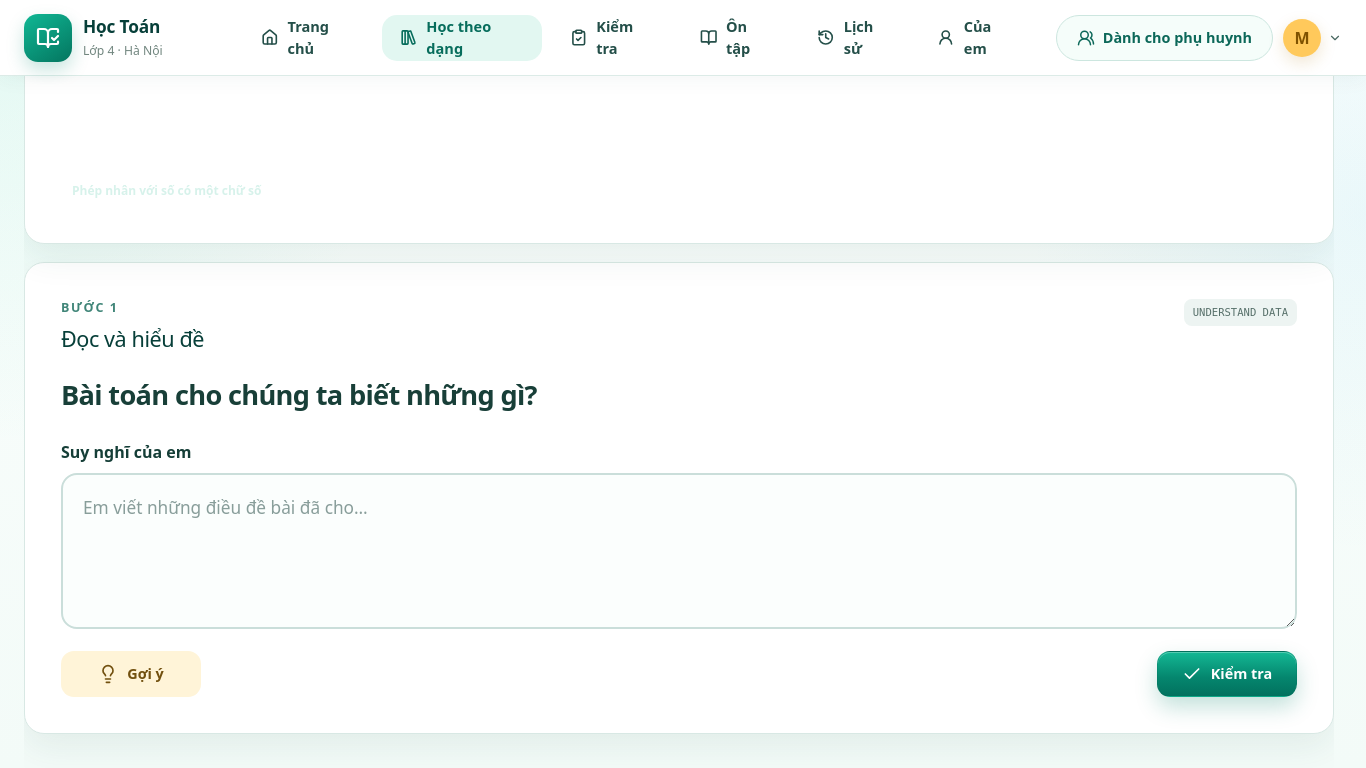
student frontend › shows a contextual hint without revealing the final answer
(page scrolled)
Click the button "Gợi ý".
click(131, 674)  # box x1=61 y1=651 x2=201 y2=697
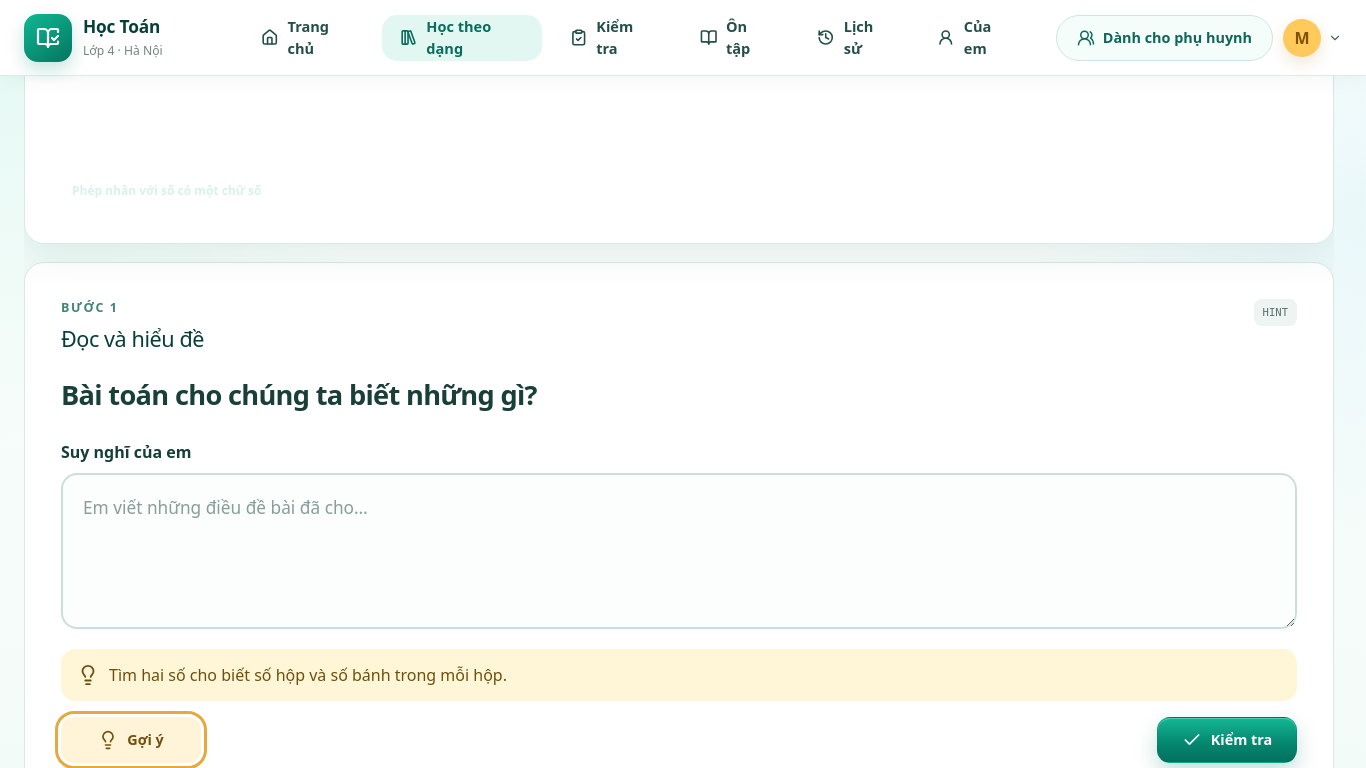
Expected: the text "Tìm hai số cho biết số hộp và số bánh trong mỗi hộp." is shown, x1=109 y1=663 x2=507 y2=687
